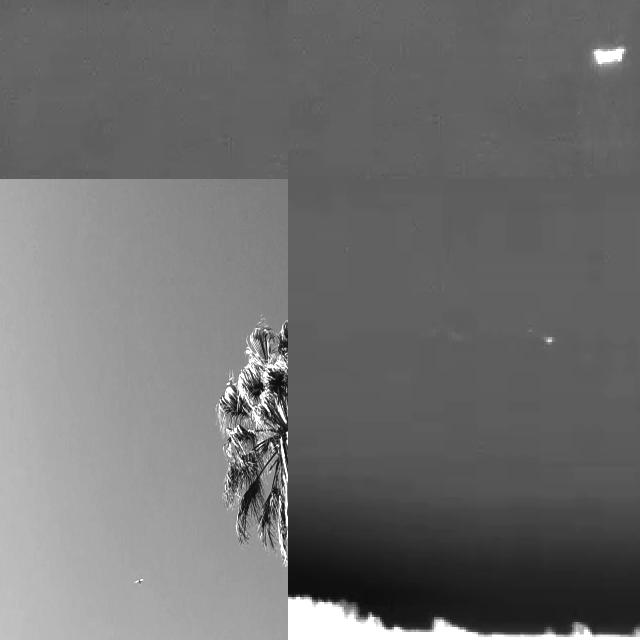0: (541, 330, 563, 354)
1: (580, 40, 640, 76)
drone: (132, 574, 148, 587)
